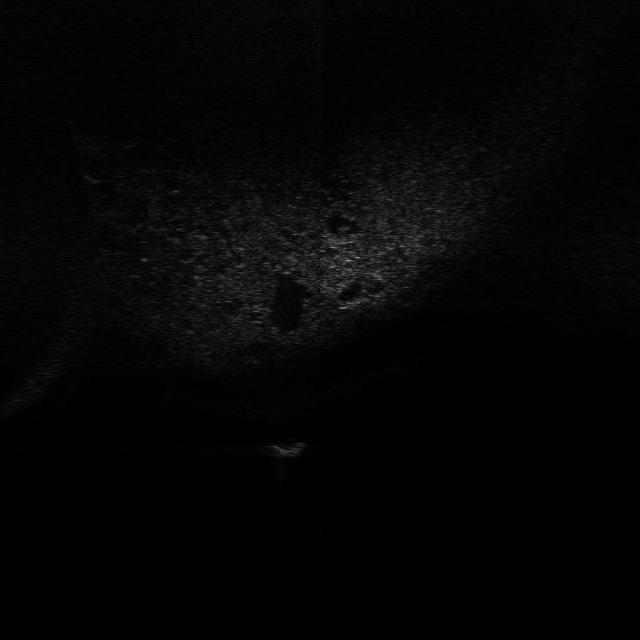cube: (252, 436, 307, 461)
